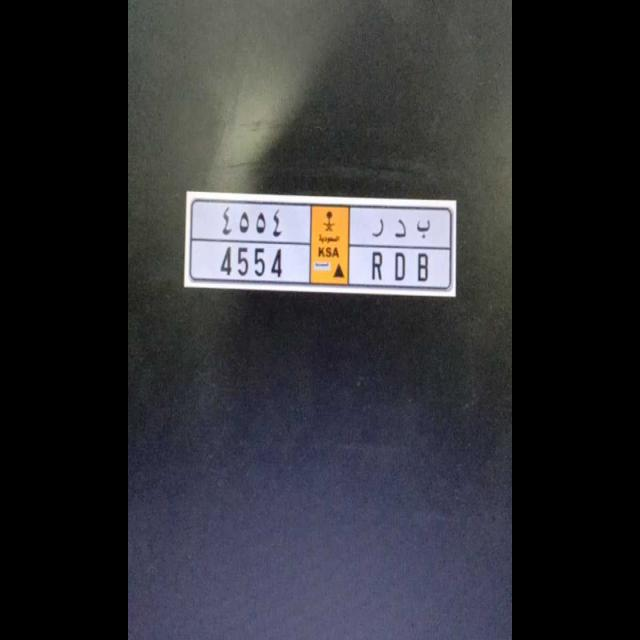license_plate: (206, 240, 444, 288)
